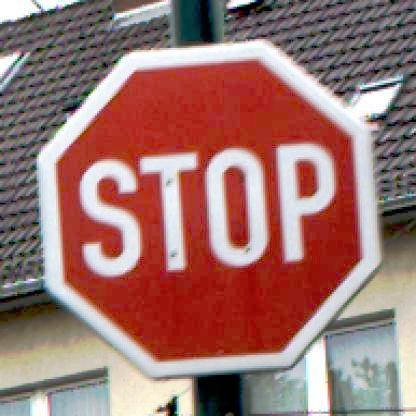Stop Sign: (34, 41, 384, 382)
